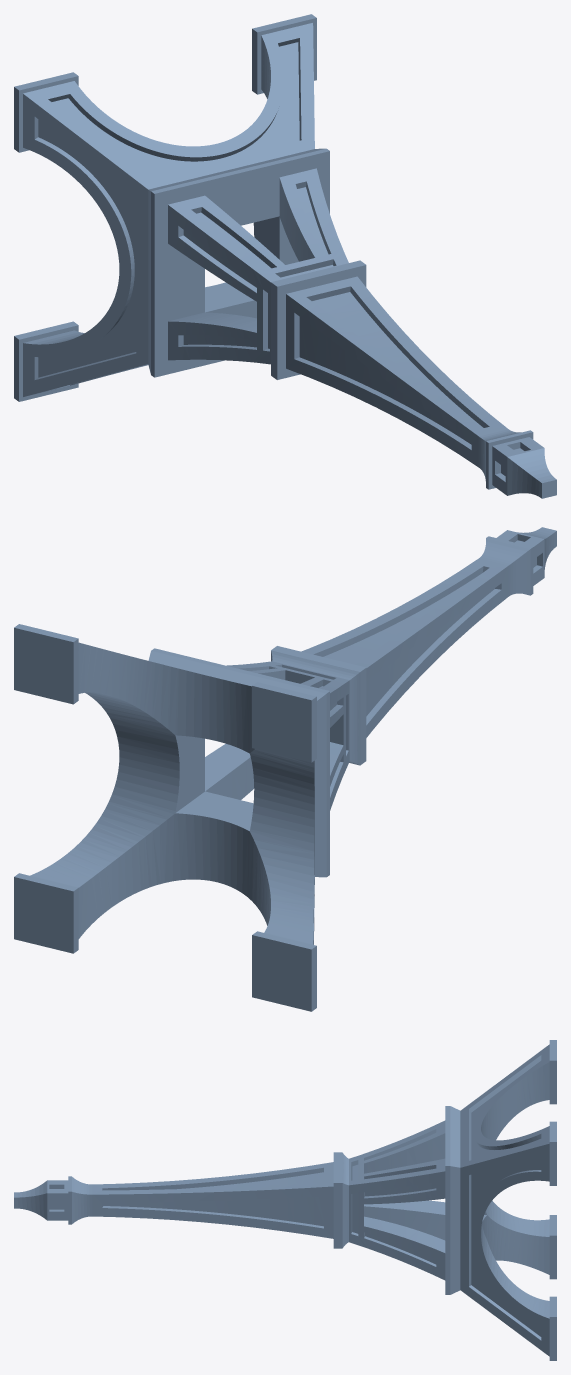
File: EiffelTowerBlue.fbx
3 views of the same model, one above another, from view 1: azimuth 30°, elevation 25°; view 2: azimuth 150°, elevation 25°; view 3: azimuth 270°, elevation 25° (orthographic). The views are drawn at different scales.
Visible parts, largest first — view 1: EiffelTower2; view 2: EiffelTower2; view 3: EiffelTower2.
Boxes of the visible parts, x1=… form: EiffelTower2: x1=14, y1=14, x2=556, y2=498; EiffelTower2: x1=14, y1=527, x2=556, y2=1011; EiffelTower2: x1=14, y1=1040, x2=556, y2=1360.
Bounding box in the file's own units: 3407 × 3407 × 7665.
